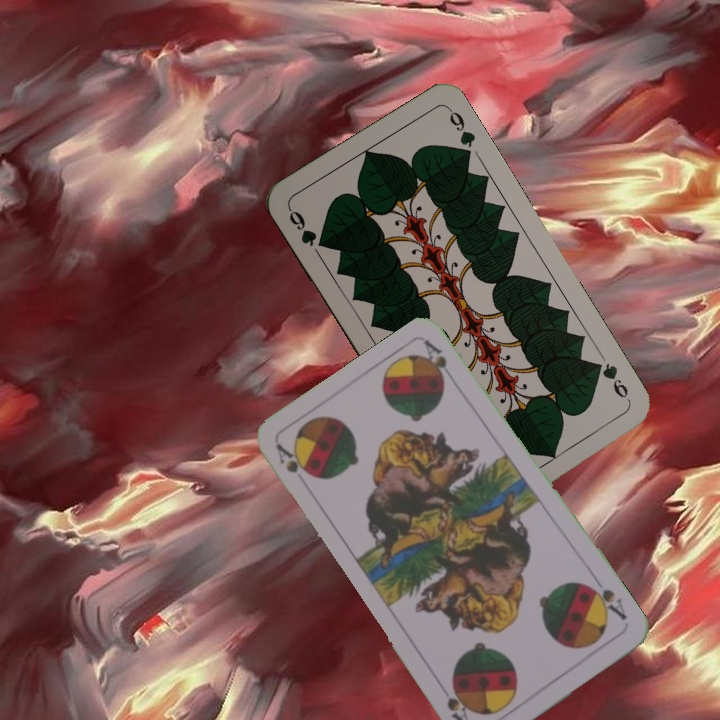G9: (284, 204, 330, 251), (588, 357, 633, 405)
SA: (584, 575, 630, 623), (271, 439, 318, 481)
